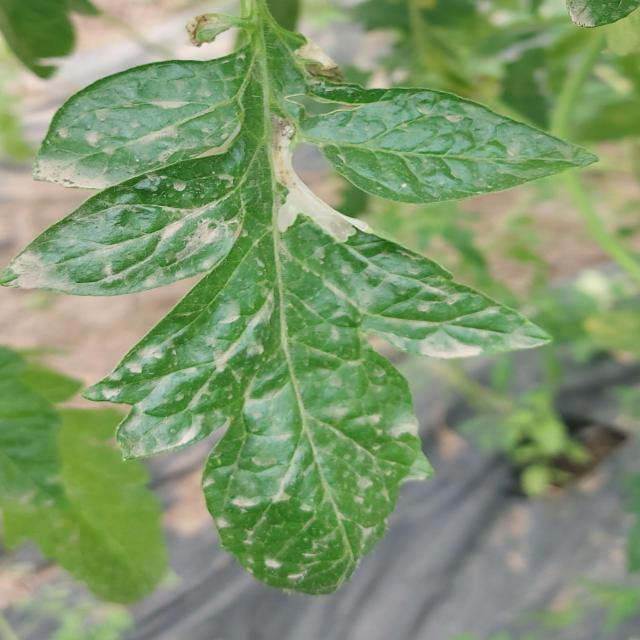Tuta absoluta: (225, 108, 370, 272)
